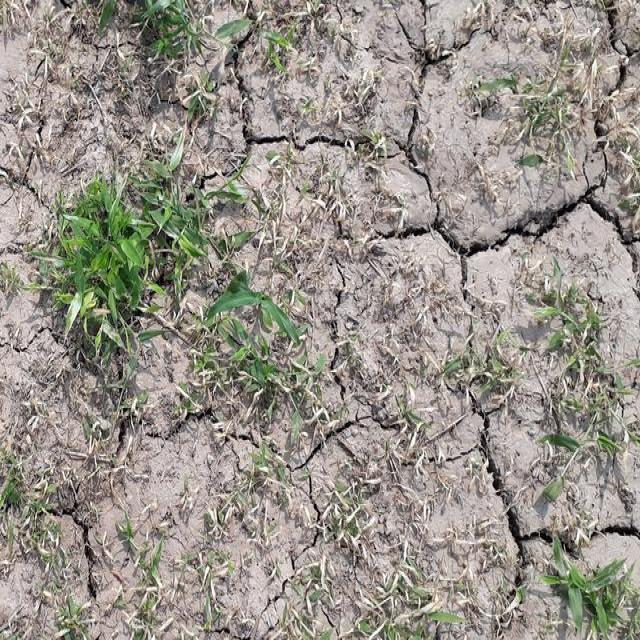weed: (49, 150, 204, 397), (545, 536, 640, 636)
